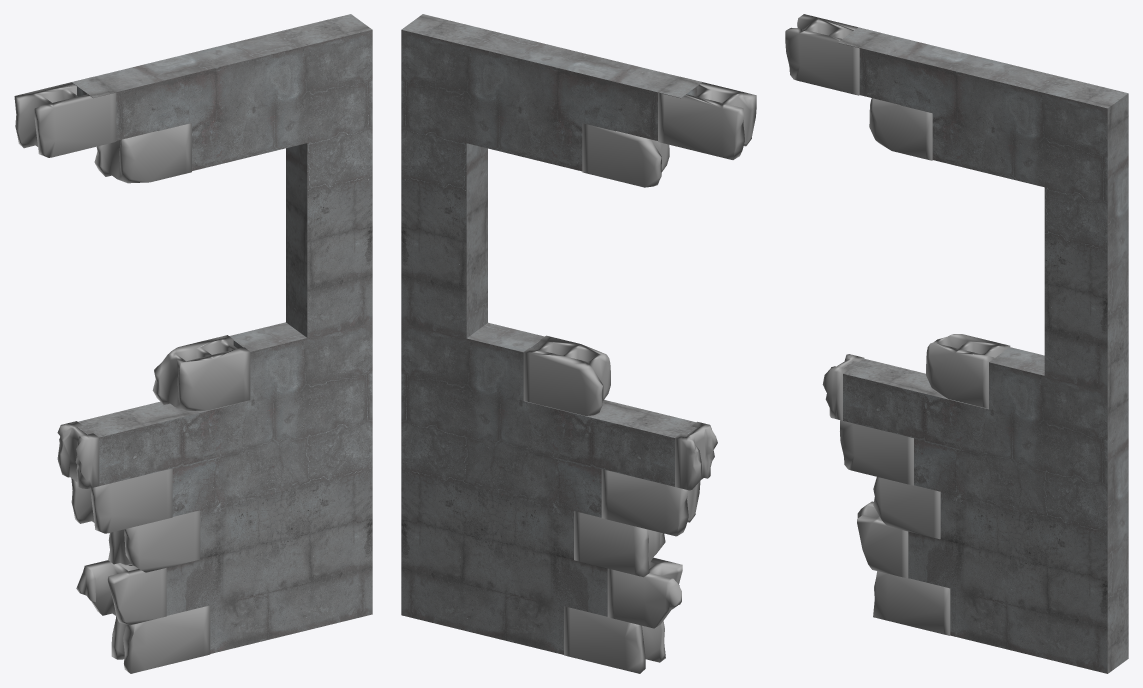
The model's file is wall_2window_01_Broken_03.fbx.
3 renders of one model, left to right at view 1: azimuth 30°, elevation 25°; view 2: azimuth 150°, elevation 25°; view 3: azimuth 330°, elevation 25°, orthographic. The views are drawn at different scales.
Visible parts, largest first — view 1: wall_2window_01_Broken_03; view 2: wall_2window_01_Broken_03; view 3: wall_2window_01_Broken_03.
Boxes of the visible parts, box(x1,y1,x2,y2) form: wall_2window_01_Broken_03: box(14, 14, 372, 673); wall_2window_01_Broken_03: box(401, 14, 756, 673); wall_2window_01_Broken_03: box(785, 14, 1128, 673).
Bounding box in the file's own units: 182 × 300 × 21.06.
2 materials, 1 textured.
